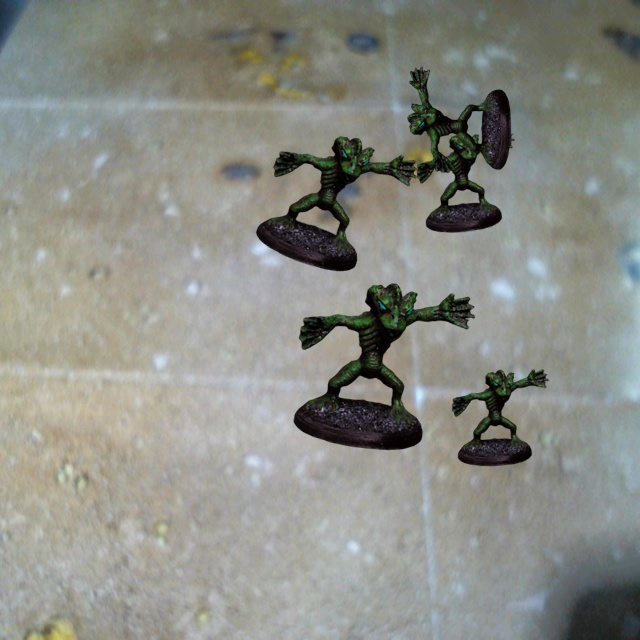pieza_juego: (293, 283, 474, 449), (256, 136, 417, 270), (407, 66, 510, 172), (416, 129, 514, 232), (452, 369, 548, 465)
